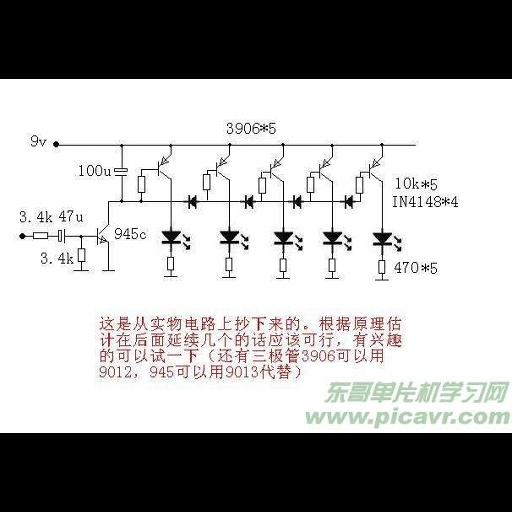firstdiode: (182, 192, 199, 212), (341, 194, 357, 211), (290, 192, 304, 210), (241, 193, 255, 210)
firstled: (157, 225, 195, 253), (368, 228, 407, 253), (270, 228, 309, 251), (320, 229, 357, 253), (218, 228, 251, 251)
firstresistance: (254, 176, 270, 196), (135, 174, 149, 195), (302, 177, 318, 195), (276, 256, 291, 274), (374, 259, 390, 275), (325, 257, 340, 274), (164, 255, 178, 273), (201, 172, 212, 194), (222, 256, 237, 272), (353, 176, 366, 194), (76, 245, 88, 264), (30, 230, 49, 241)
